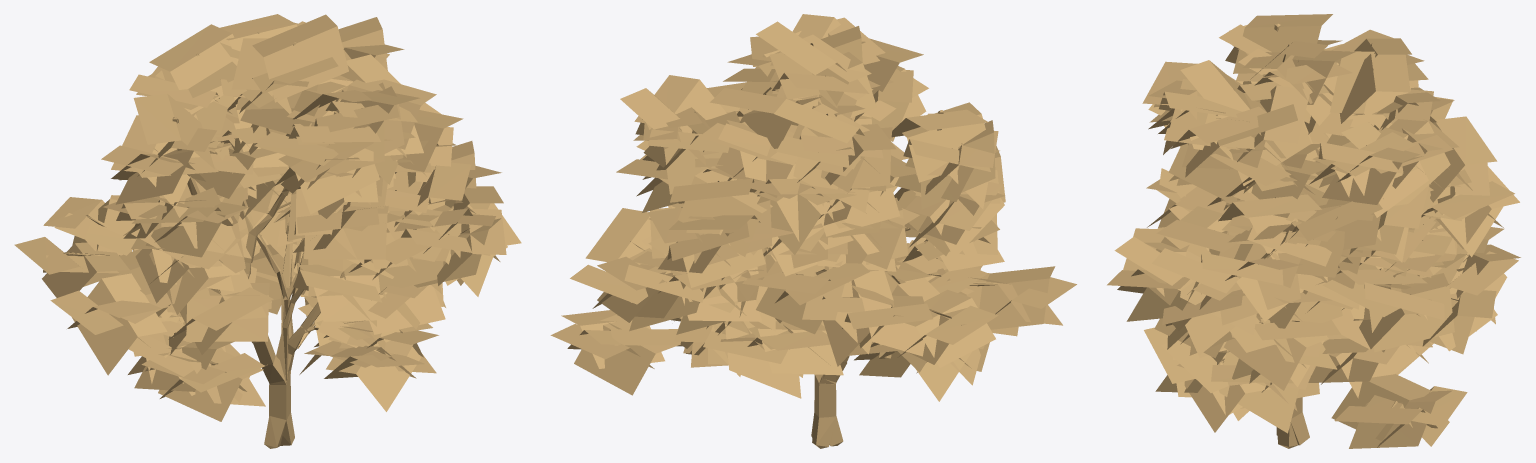
The model's file is walnut_lowpoly.dae.
The picture shows the model from 3 angles, left to right: view 1: azimuth 30°, elevation 25°; view 2: azimuth 150°, elevation 25°; view 3: azimuth 270°, elevation 25°; orthographic projection. The views are drawn at different scales.
Visible parts, largest first — view 1: Wallnut_; view 2: Wallnut_; view 3: Wallnut_.
Boxes of the visible parts, x1,y1,x2,y2 form: Wallnut_: [14, 14, 521, 448]; Wallnut_: [550, 14, 1076, 448]; Wallnut_: [1107, 14, 1520, 448].
Size of the model in its own units: 4.64 by 3.8 by 4.22.
